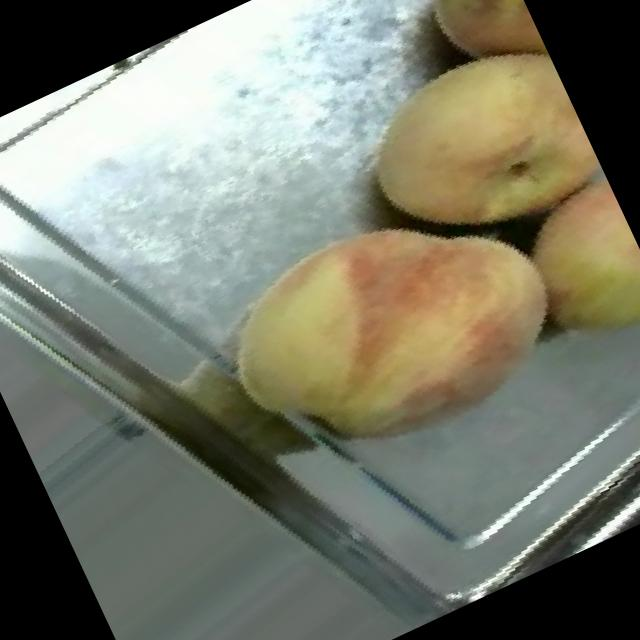Fruit: (157, 124, 618, 548), (316, 1, 622, 308), (487, 176, 640, 405), (378, 0, 562, 128)
